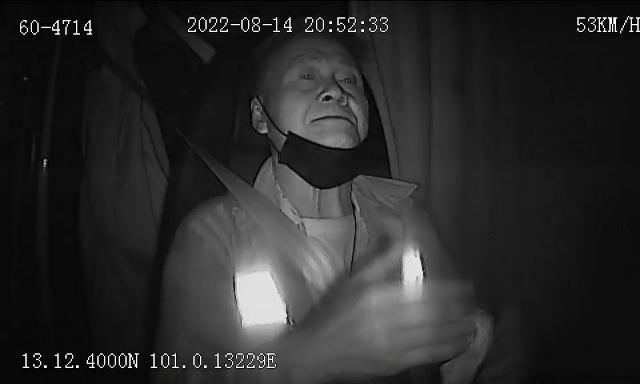Seatbelt: (170, 122, 342, 296)
